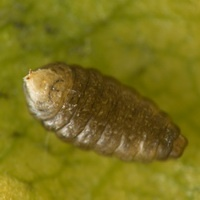insect: (23, 63, 186, 161)
